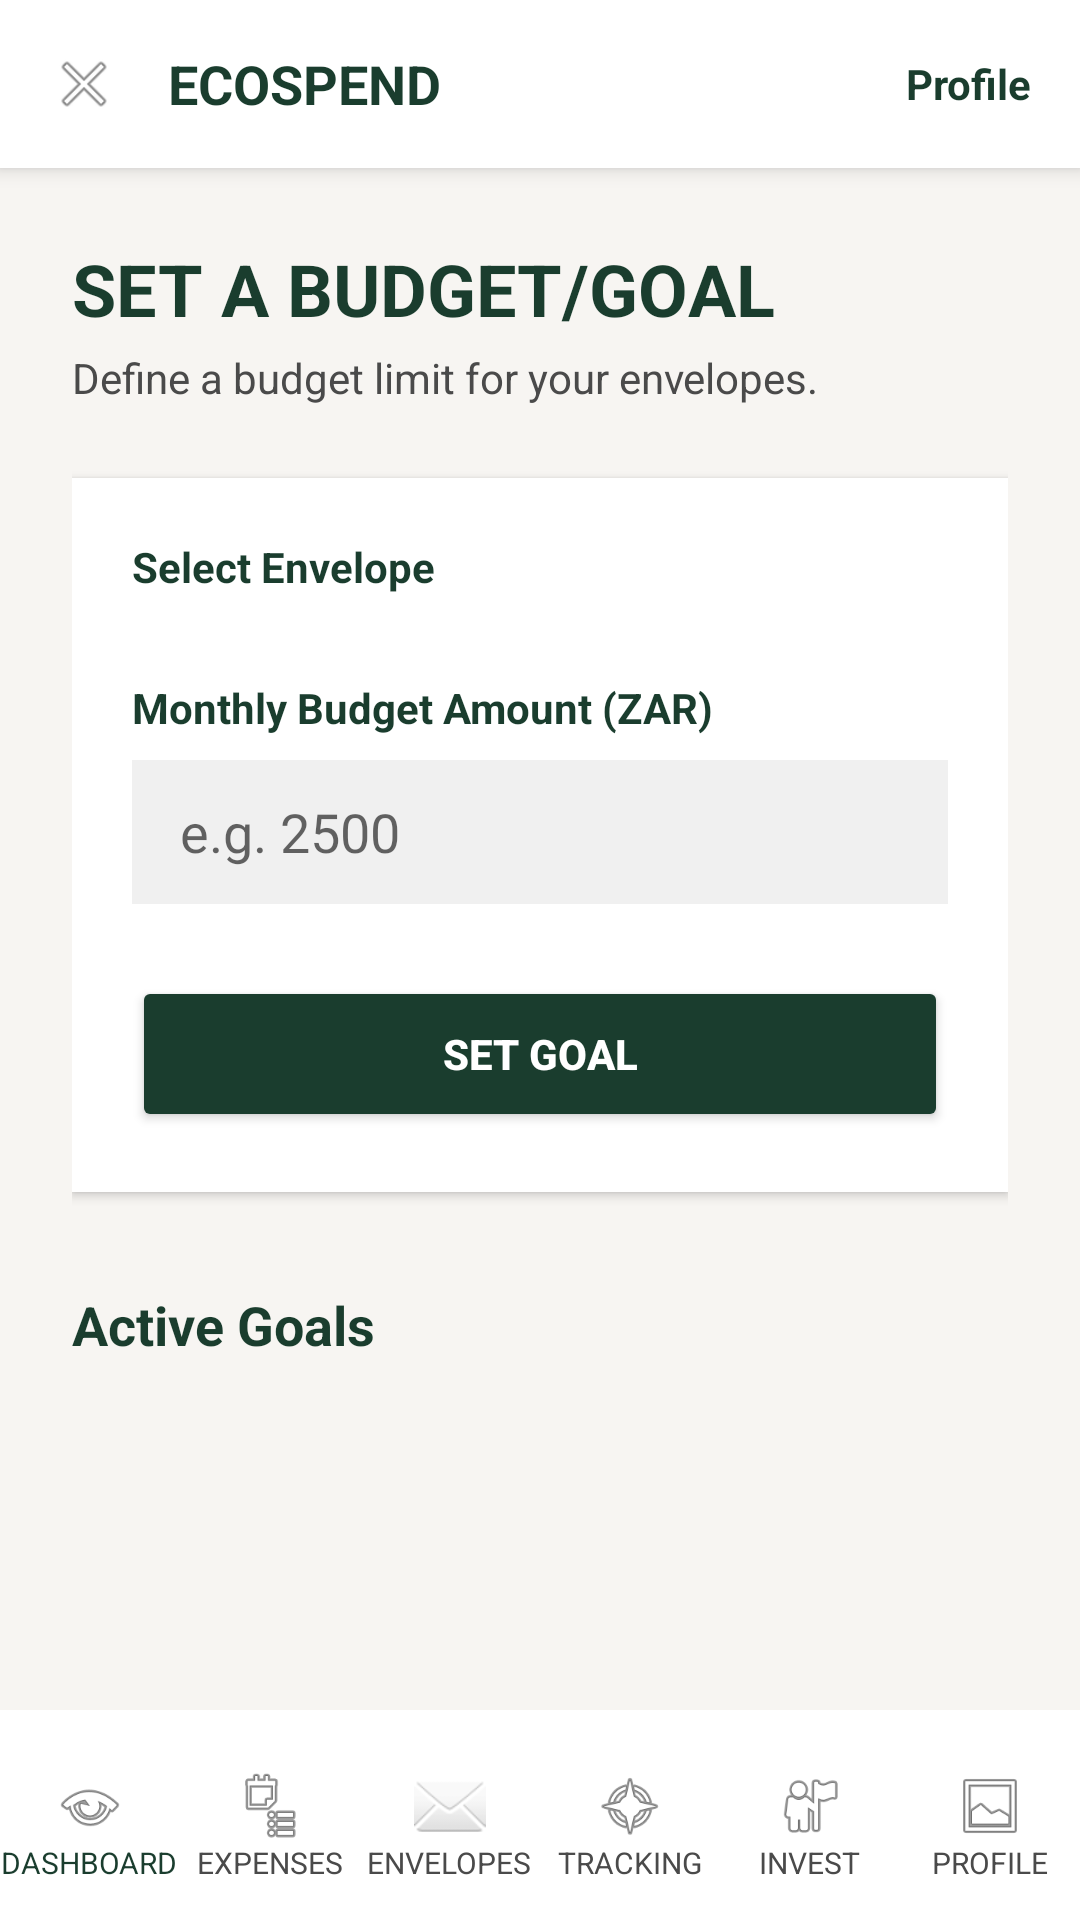

Where to tap for icons on this 1080*1920 app screen, as (x,y):
agenda: (270,1806)
Back: (84,84)
compass: (629,1806)
email: (450,1807)
gallery: (990,1806)
myplaces: (811,1806)
view: (90,1807)
